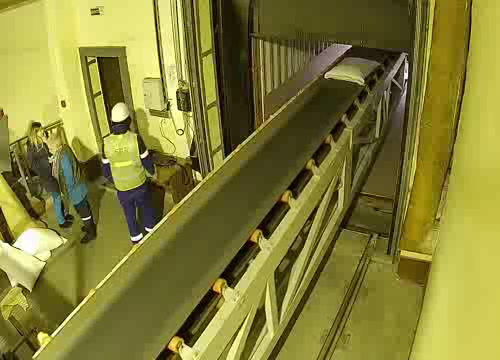bag: (324, 57, 381, 88)
